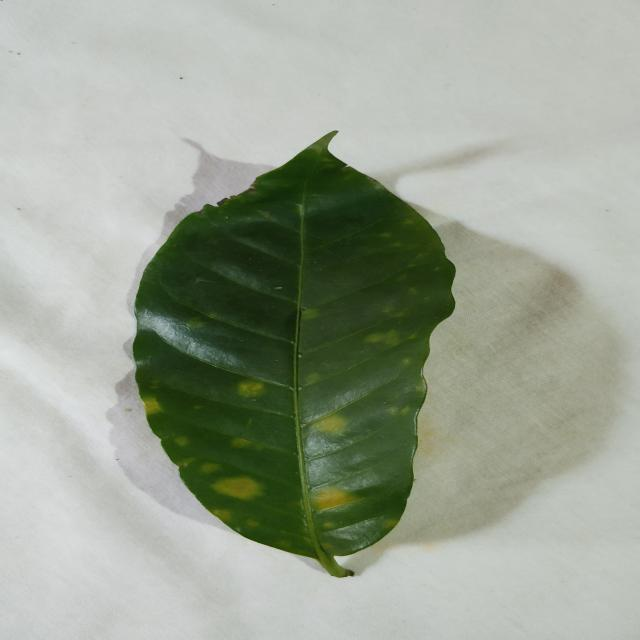Enfermedad-Roya: (130, 134, 457, 580)
